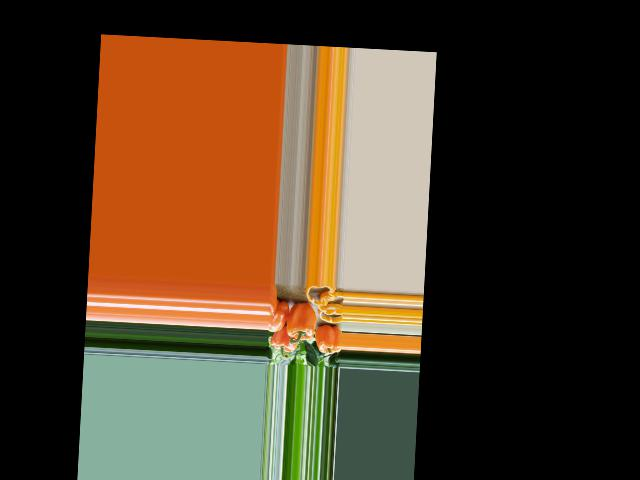bell_pepper: (268, 298, 289, 333)
